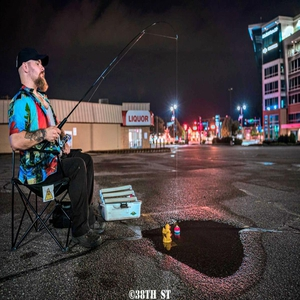pothole: (142, 215, 249, 280)
